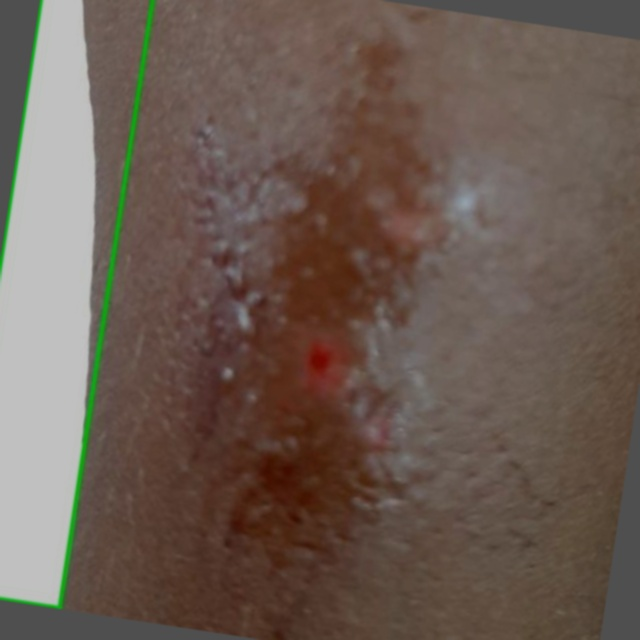Tinea Corporis: (0, 0, 152, 608)
